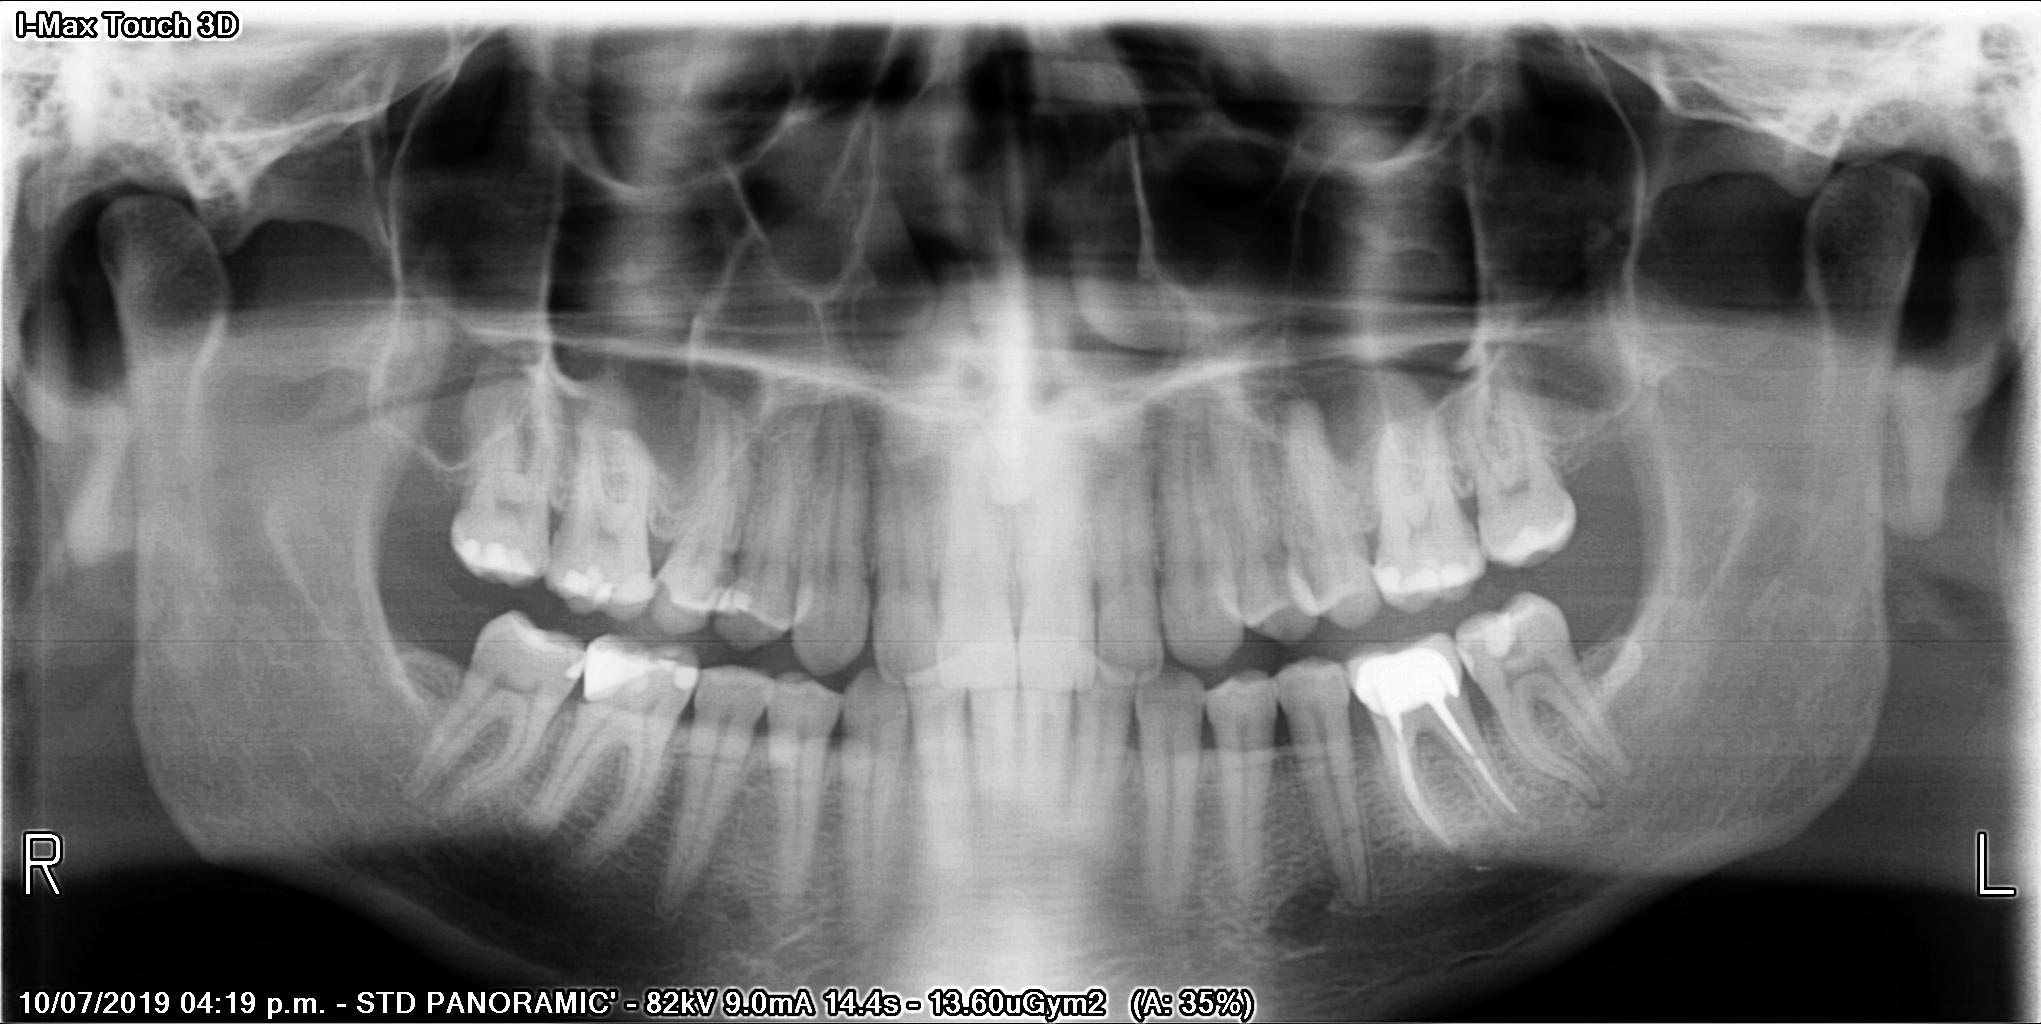Çürük: (1337, 641, 1473, 721), (575, 633, 703, 708), (560, 556, 654, 613), (457, 532, 538, 588), (1473, 613, 1513, 653)
Çürük Bölgesi: (1499, 628, 1527, 664)
